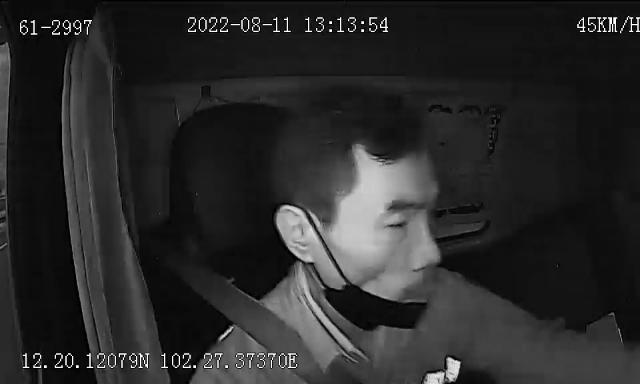Seatbelt: (172, 264, 316, 384)
